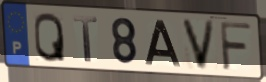8: (110, 17, 140, 67)
A: (143, 18, 183, 69)
F: (218, 20, 253, 74)
Q: (33, 11, 67, 64)
T: (72, 15, 100, 64)
V: (179, 17, 217, 72)
